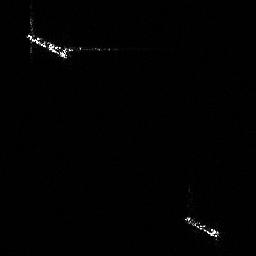ship: (24, 30, 76, 61), (181, 213, 222, 239)
